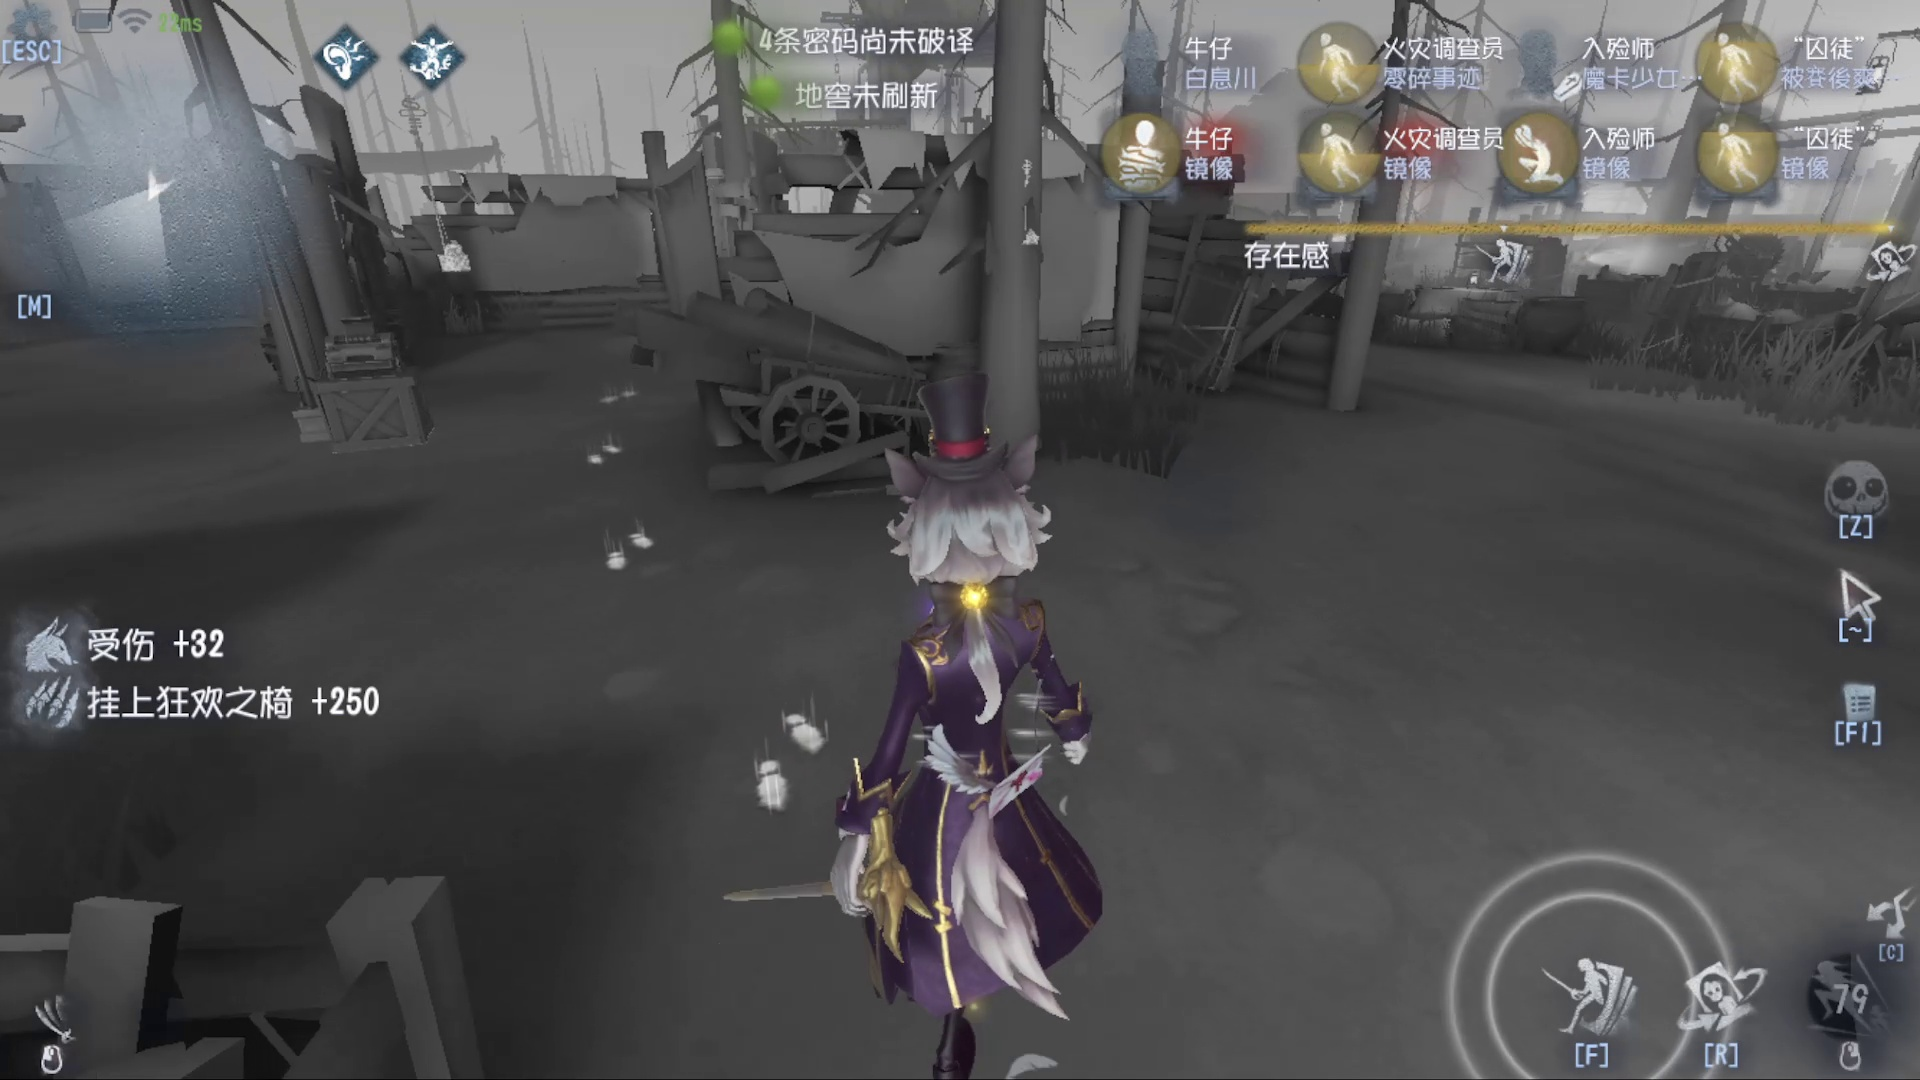密码机: (251, 258, 440, 469)
